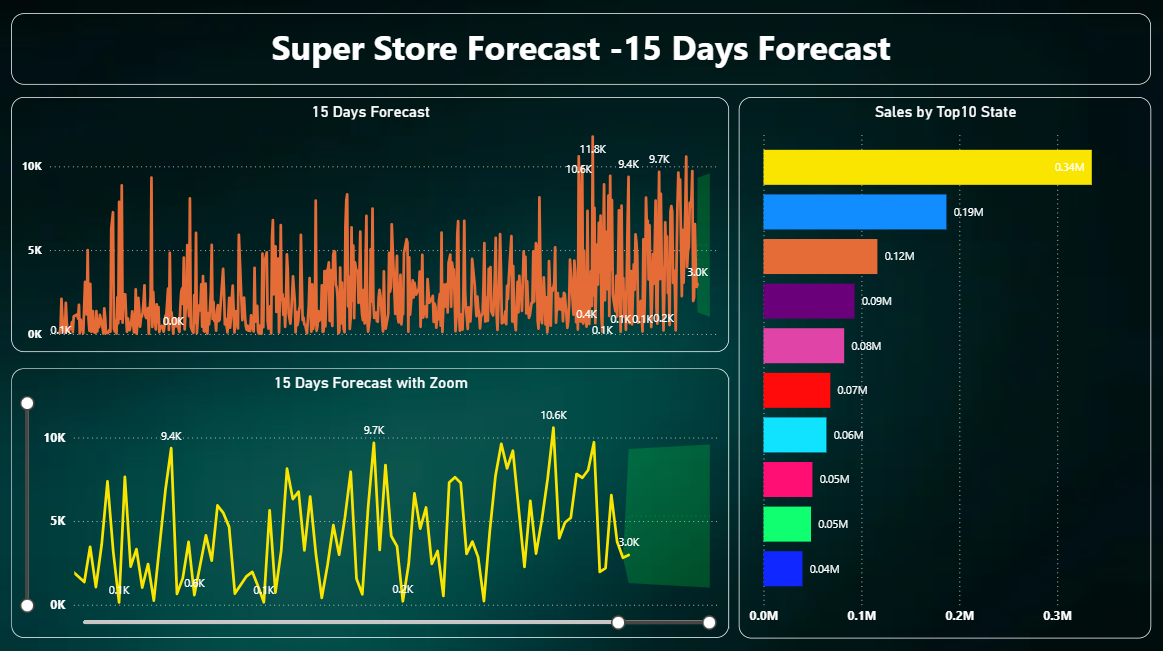

Layout of this report page (visuals, bound fields, positions):
{"tool":"powerbi","page":{"name":"Forecast","canvas":[1280,720],"ordinal":1},"visuals":[{"type":"lineChart","title":"15 Days Forecast","fields":{"Y":["Sum(SuperStore_Sales_Dataset.Sales)"],"Category":["SuperStore_Sales_Dataset.Order Date"]},"box":[12.3,109.8,787.7,279.9],"z":0},{"type":"lineChart","title":"15 Days Forecast with Zoom","fields":{"Y":["Sum(SuperStore_Sales_Dataset.Sales)"],"Category":["SuperStore_Sales_Dataset.Order Date"]},"box":[12.3,407.5,787.7,296.4],"z":1000},{"type":"clusteredBarChart","title":"Sales by Top10 State","fields":{"Category":["SuperStore_Sales_Dataset.State"],"Y":["Sum(SuperStore_Sales_Dataset.Sales)"]},"box":[811,109.8,452.8,594.2],"z":2000},{"type":"textbox","box":[12.3,17.8,1251.5,78.2],"z":3000}]}

Visuals, with their boxes in screenshot pixels (x1, y1, x2, y2), scaled from the page's 1280x720 canvas onto the 1163x651 screenshot:
"15 Days Forecast" lineChart: box=[11, 99, 727, 352]
"15 Days Forecast with Zoom" lineChart: box=[11, 368, 727, 636]
"Sales by Top10 State" clusteredBarChart: box=[737, 99, 1148, 637]
textbox: box=[11, 16, 1148, 87]
